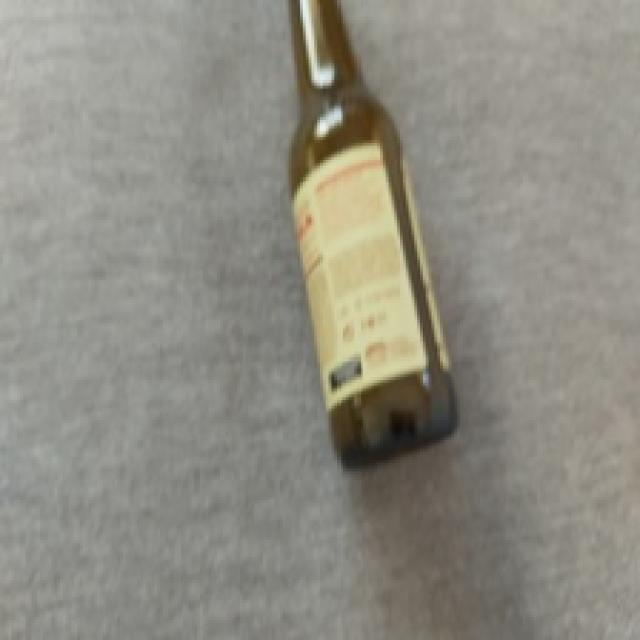Glass: (286, 0, 460, 476)
